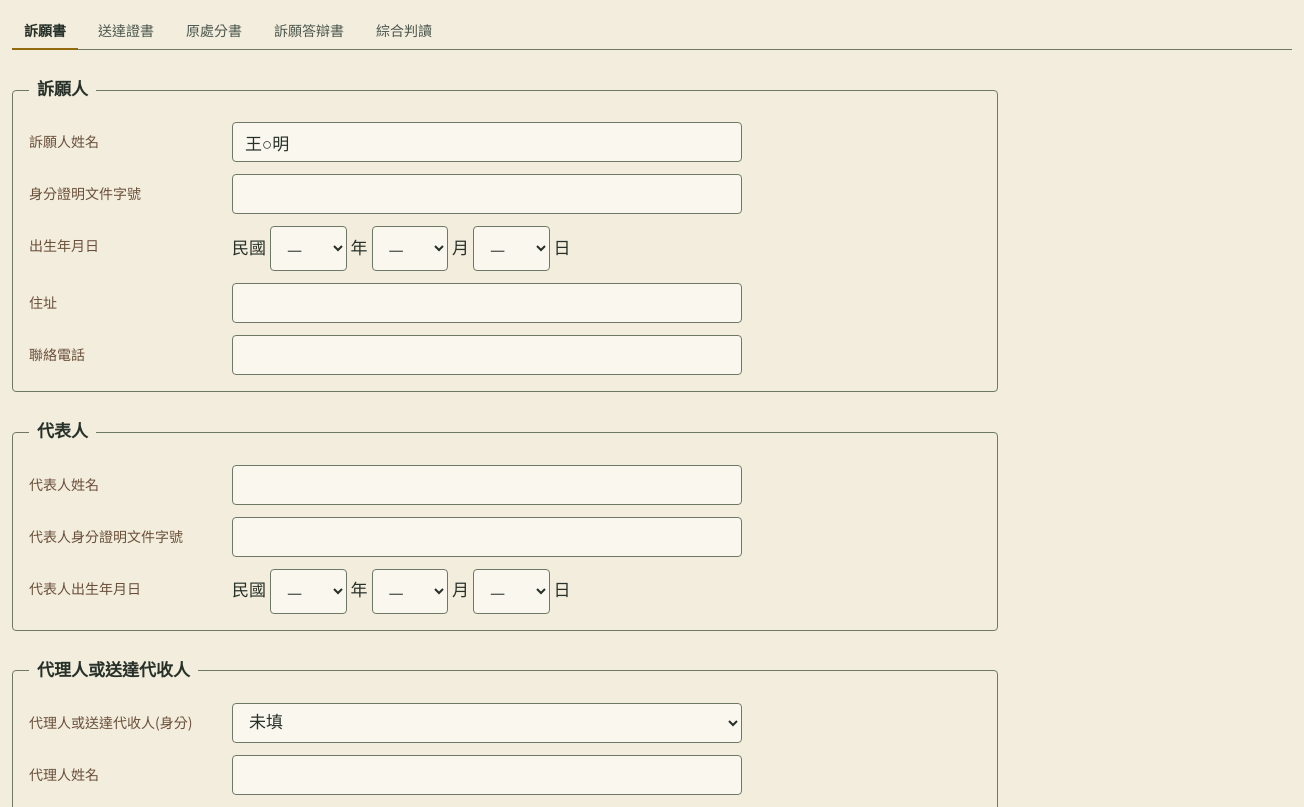
Test: F1 五個分頁 › 五個分頁存在,一次只渲染一個 tabpanel;切換後顯示對應欄位
Expected: the field labelled "訴願人姓名" is shown, [232,122,742,162]
Click the tab "送達證書". click: (126,31)
box: [86,12,166,50]
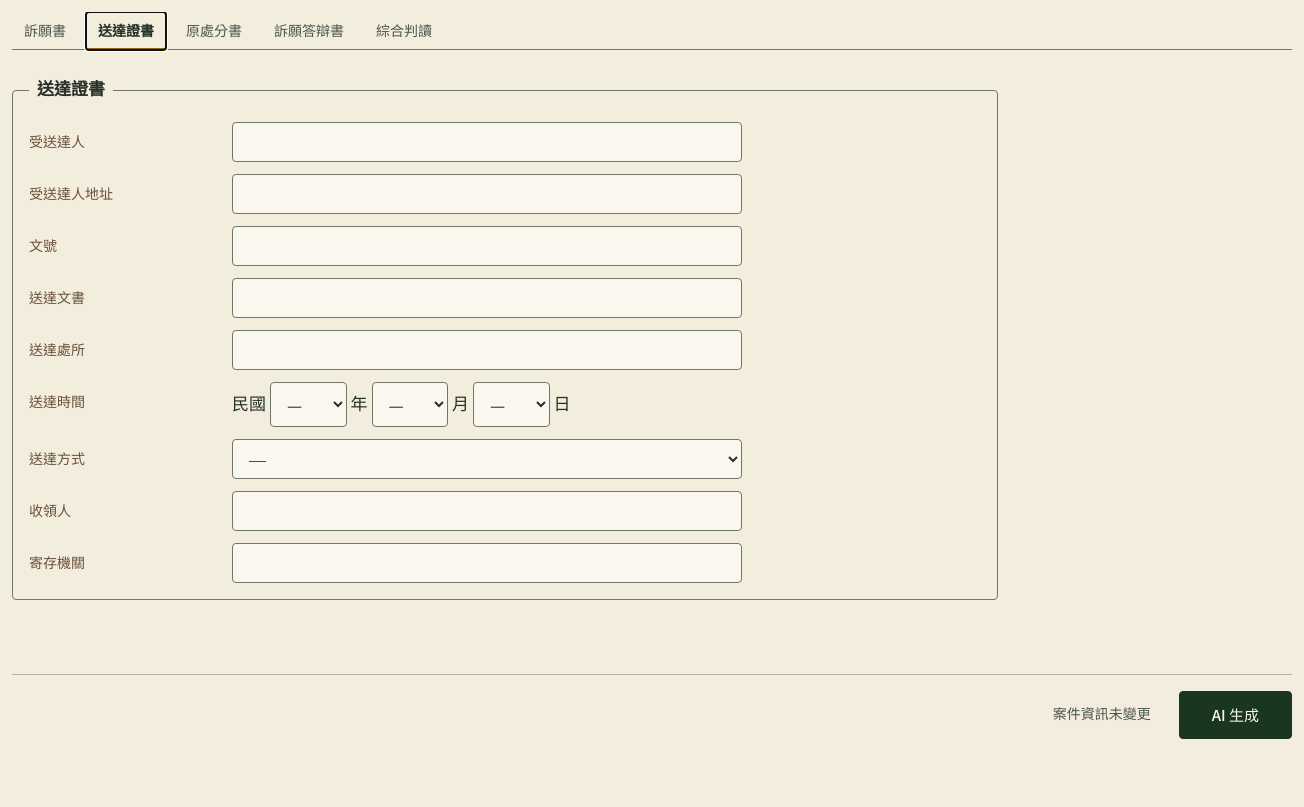
Result: the number of panels is 1 at [12,74,998,600]
Result: the field labelled "受送達人" is shown at [232,122,742,162]
Result: the label labelled "訴願人姓名" is gone
